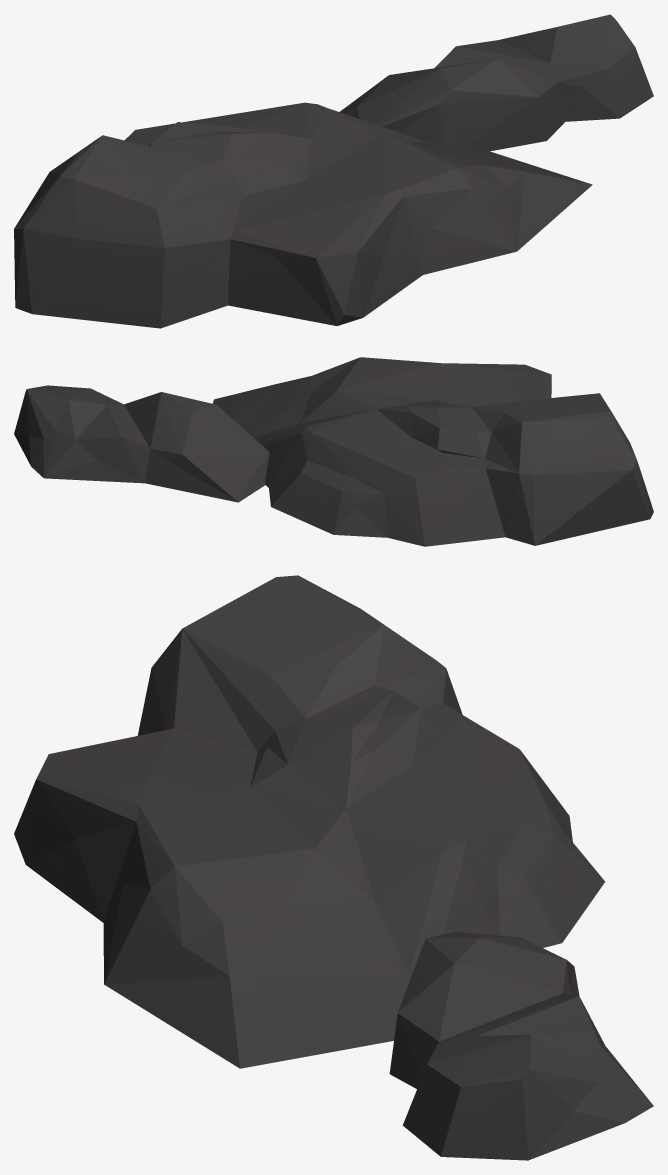
File: ZLP_Rock_E_7.FBX
3 renders of one model, top to bottom at view 1: azimuth 30°, elevation 25°; view 2: azimuth 150°, elevation 25°; view 3: azimuth 270°, elevation 25°, orthographic. The views are drawn at different scales.
Parts seen in each view (by area): view 1: ZLP_Rock_E_7; view 2: ZLP_Rock_E_7; view 3: ZLP_Rock_E_7.
Boxes of the visible parts, left/top/right/bottom form: ZLP_Rock_E_7: left=14, top=14, right=653, bottom=328; ZLP_Rock_E_7: left=14, top=357, right=653, bottom=546; ZLP_Rock_E_7: left=14, top=575, right=653, bottom=1160.
Bounding box in the file's own units: 241 × 39.05 × 142.
